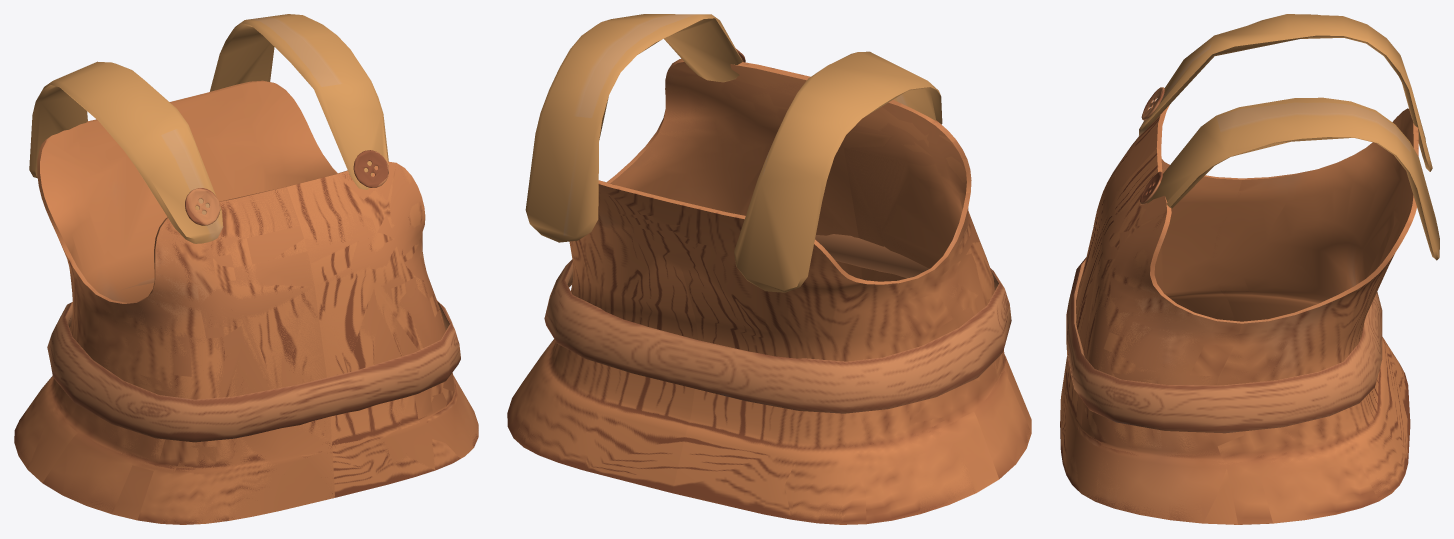
Rendered from Costume04_weight_Shert-01.fbx.
3 views of the same model, side by side, from view 1: azimuth 30°, elevation 25°; view 2: azimuth 150°, elevation 25°; view 3: azimuth 270°, elevation 25° (orthographic). The views are drawn at different scales.
Parts seen in each view (by area): view 1: body_boy.003, Plane, body_boy.004, button2; view 2: body_boy.003, Plane, body_boy.004; view 3: body_boy.003, Plane, body_boy.004, button2.
Boxes of the visible parts, x1,y1,x2,y2 form: body_boy.003: [14, 80, 478, 524]; Plane: [29, 14, 388, 243]; body_boy.004: [47, 277, 460, 442]; button2: [185, 150, 388, 225]; body_boy.003: [507, 58, 1031, 524]; Plane: [525, 14, 942, 292]; body_boy.004: [544, 234, 1011, 413]; body_boy.003: [1060, 105, 1418, 524]; Plane: [1139, 14, 1439, 260]; body_boy.004: [1066, 257, 1382, 433]; button2: [1140, 87, 1164, 204].
Size of the model in its own units: 410 by 345 by 330.
